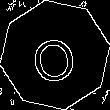O_N: (29, 27, 81, 83)
